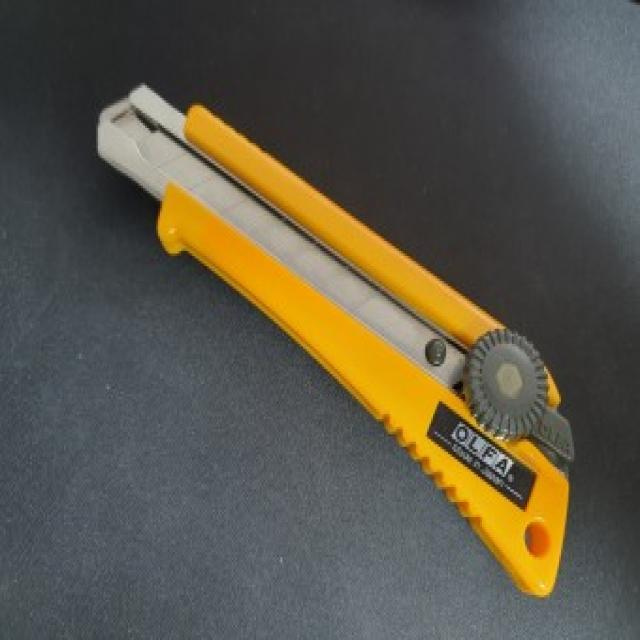cutter: (103, 62, 578, 606)
